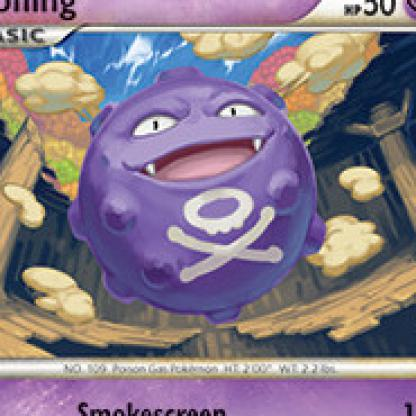Koffing: (57, 72, 342, 329)
